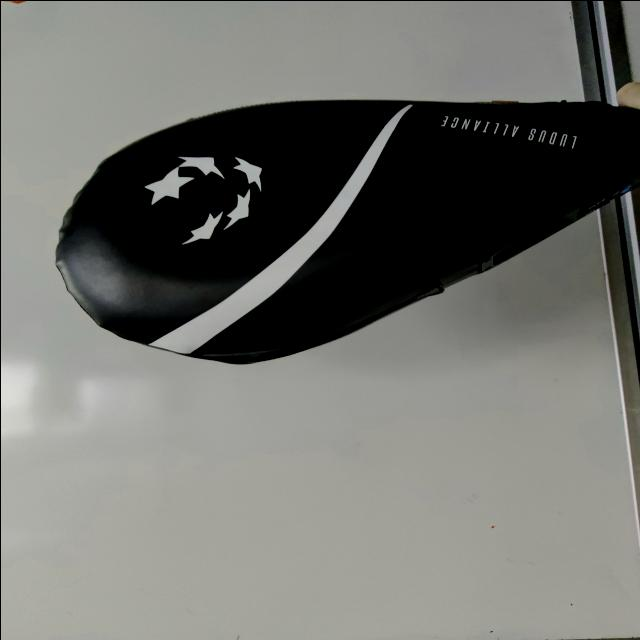paddle: (51, 97, 640, 366)
